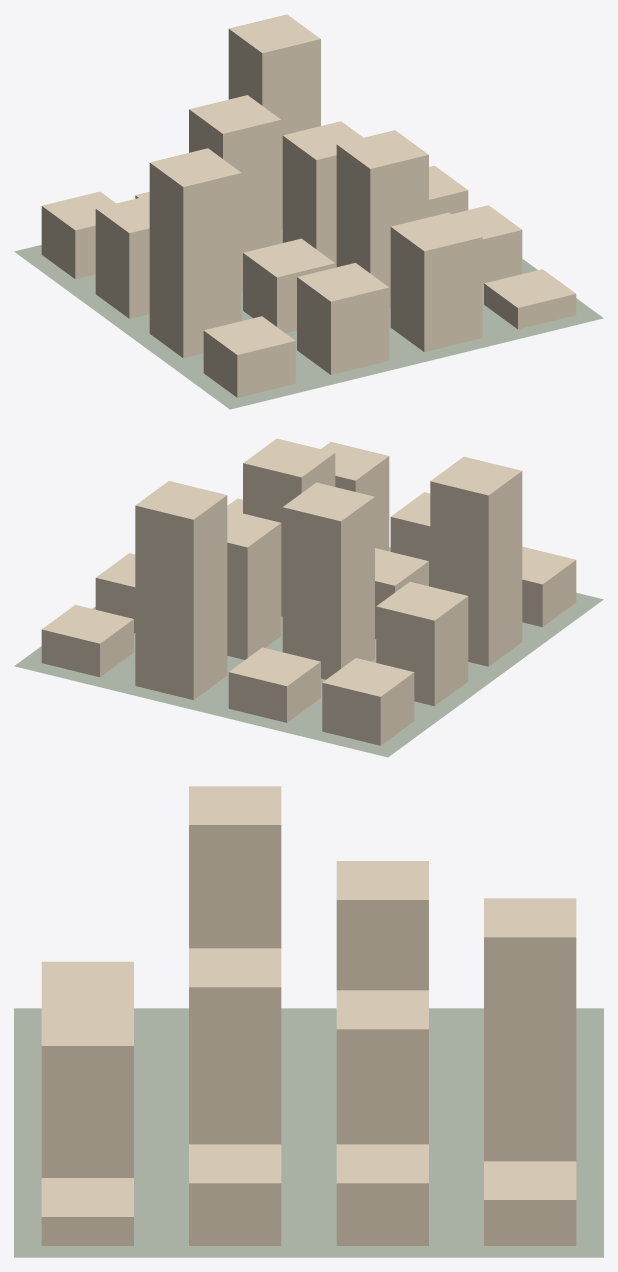
The picture shows the model from 3 angles, top to bottom: view 1: azimuth 30°, elevation 25°; view 2: azimuth 150°, elevation 25°; view 3: azimuth 270°, elevation 25°; orthographic projection. The views are drawn at different scales.
Size of the model in its own units: 128 by 59 by 128.
